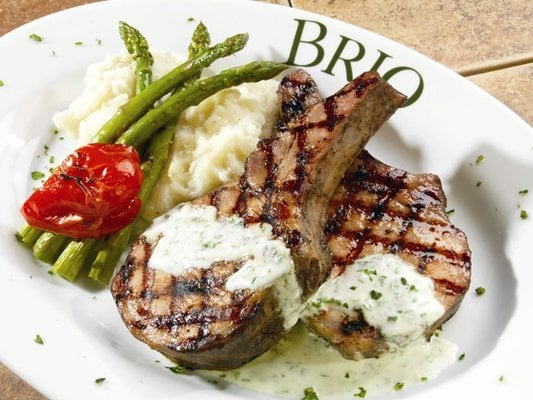soup: (109, 68, 476, 387)
